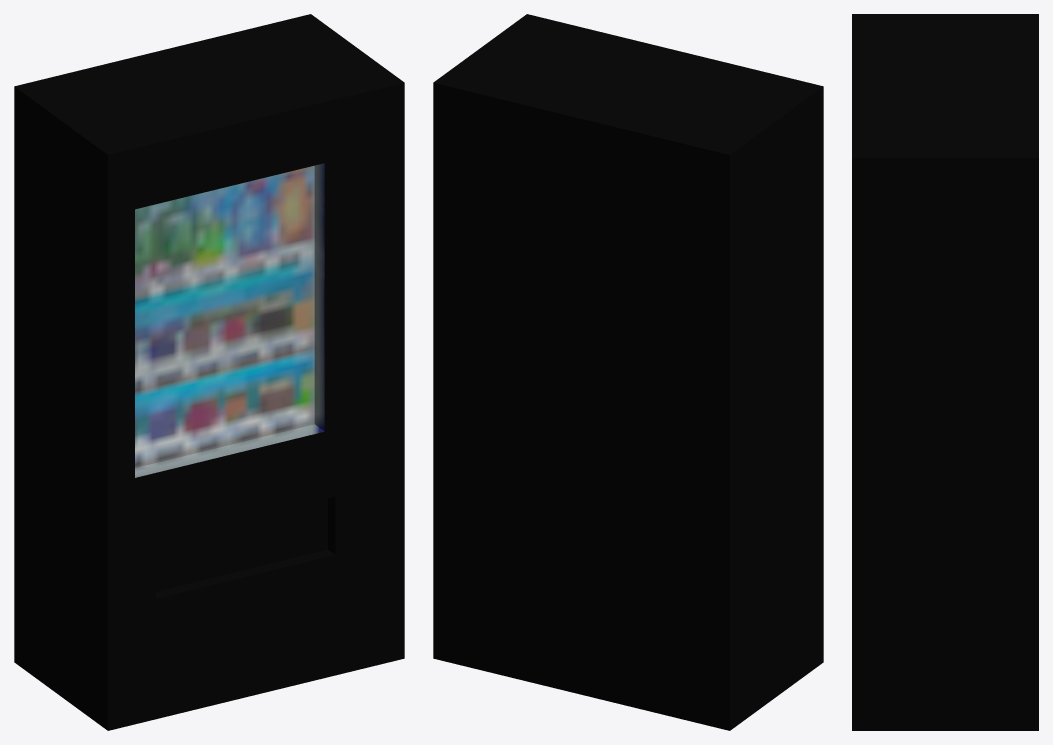
File: SM_VendingMachine.fbx
3 views of the same model, side by side, from view 1: azimuth 30°, elevation 25°; view 2: azimuth 150°, elevation 25°; view 3: azimuth 270°, elevation 25° (orthographic).
Visible parts, largest first — view 1: Drinks_machine; view 2: Drinks_machine; view 3: Drinks_machine.
Boxes of the visible parts, left/top/right/bottom form: Drinks_machine: left=14, top=14, right=404, bottom=730; Drinks_machine: left=433, top=14, right=823, bottom=730; Drinks_machine: left=852, top=14, right=1038, bottom=730.
Size of the model in its own units: 1.15 by 2.13 by 0.6298.
